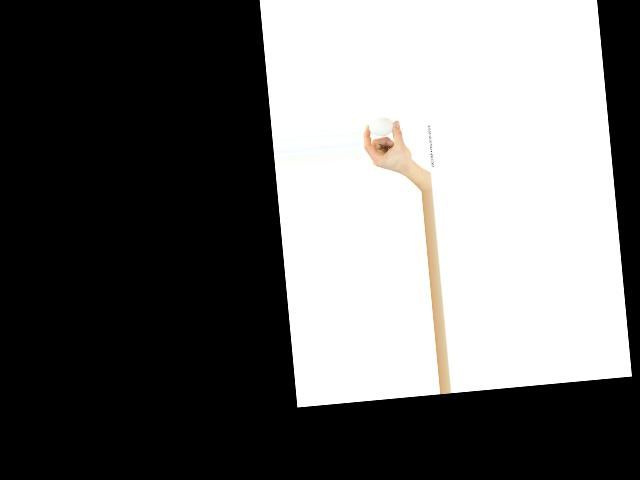egg: (368, 117, 394, 137)
